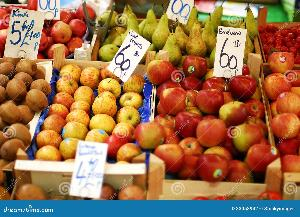apple: (151, 62, 273, 185), (44, 67, 148, 165), (0, 1, 100, 59), (266, 65, 300, 185)
kiwi: (0, 62, 48, 161)
pear: (96, 8, 262, 64)
